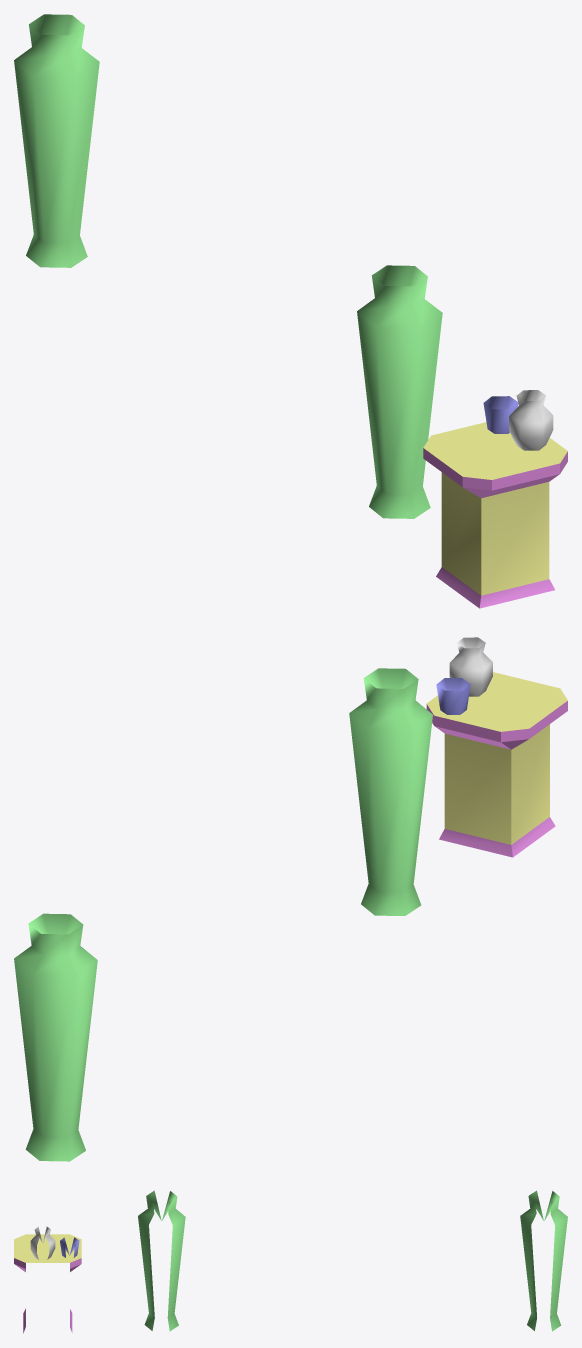
File: interior_B_delf_store_05.gltf
3 renders of one model, top to bottom at view 1: azimuth 30°, elevation 25°; view 2: azimuth 150°, elevation 25°; view 3: azimuth 270°, elevation 25°, orthographic. The views are drawn at different scales.
Parts seen in each view (by area): view 1: interior_B_delf_store_05; view 2: interior_B_delf_store_05; view 3: interior_B_delf_store_05.
Part boxes in pixels (x1=…): interior_B_delf_store_05: x1=14, y1=14, x2=567, y2=608; interior_B_delf_store_05: x1=14, y1=637, x2=567, y2=1161; interior_B_delf_store_05: x1=14, y1=1190, x2=567, y2=1333.
Bounding box in the file's own units: 0.2087 × 0.4382 × 1.71.
